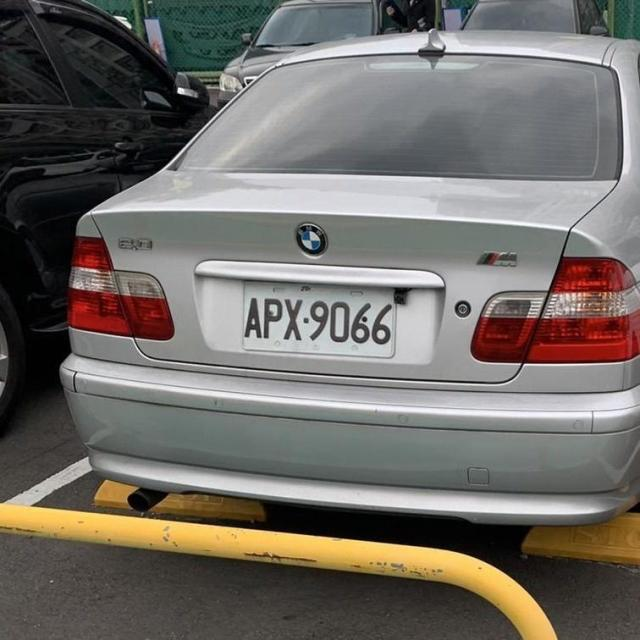W: (225, 270, 409, 367)
